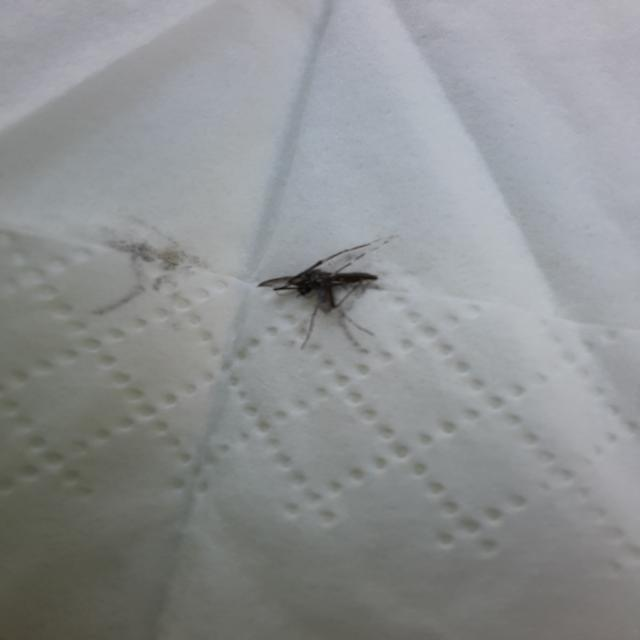albopictus: (247, 231, 403, 351)
